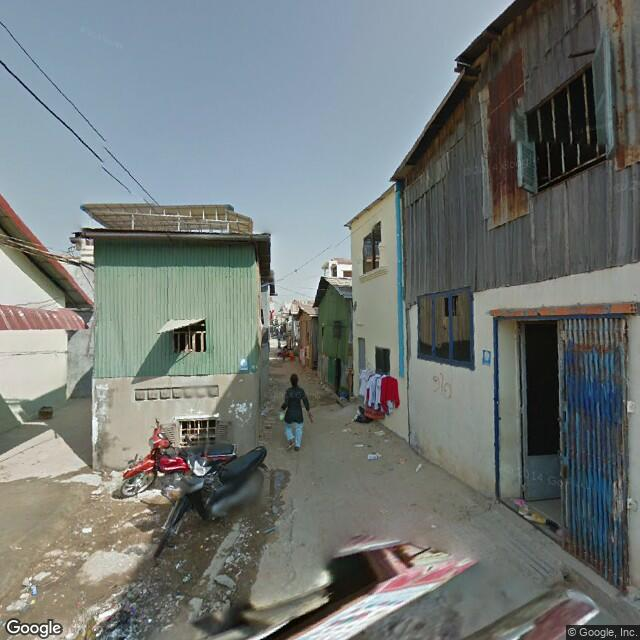litter: (96, 592, 128, 625), (22, 575, 41, 606), (413, 460, 432, 482), (365, 446, 383, 468), (76, 524, 97, 537), (222, 552, 238, 568), (177, 572, 192, 583)
